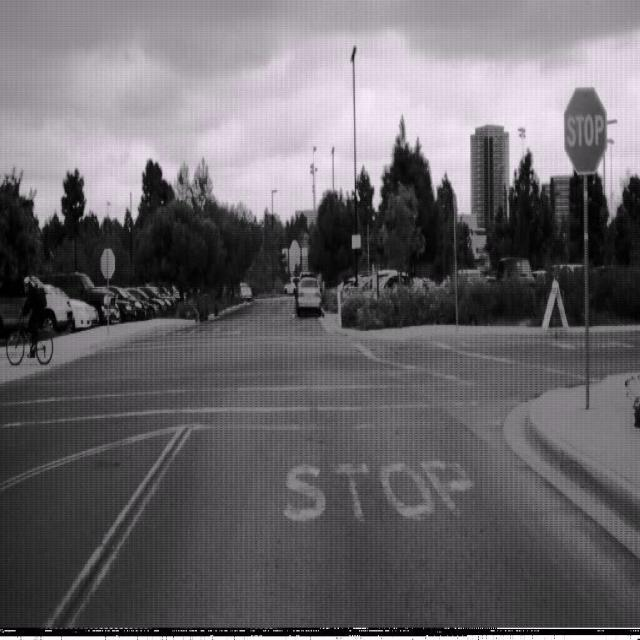stop_sign: (563, 85, 608, 174)
